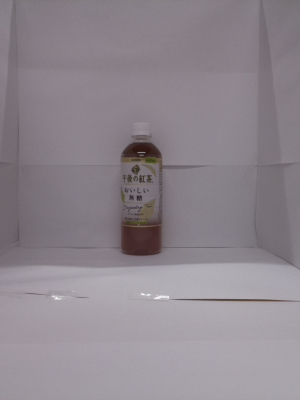午後の紅茶: (109, 115, 171, 264)
